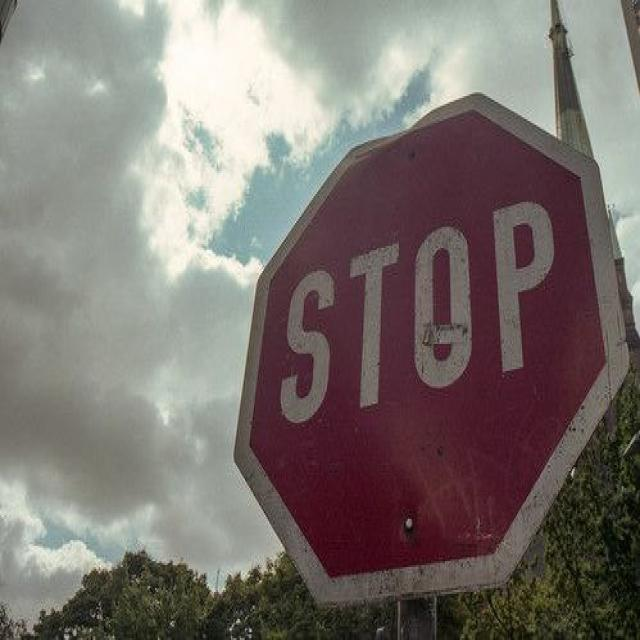stop: (227, 86, 619, 607)
